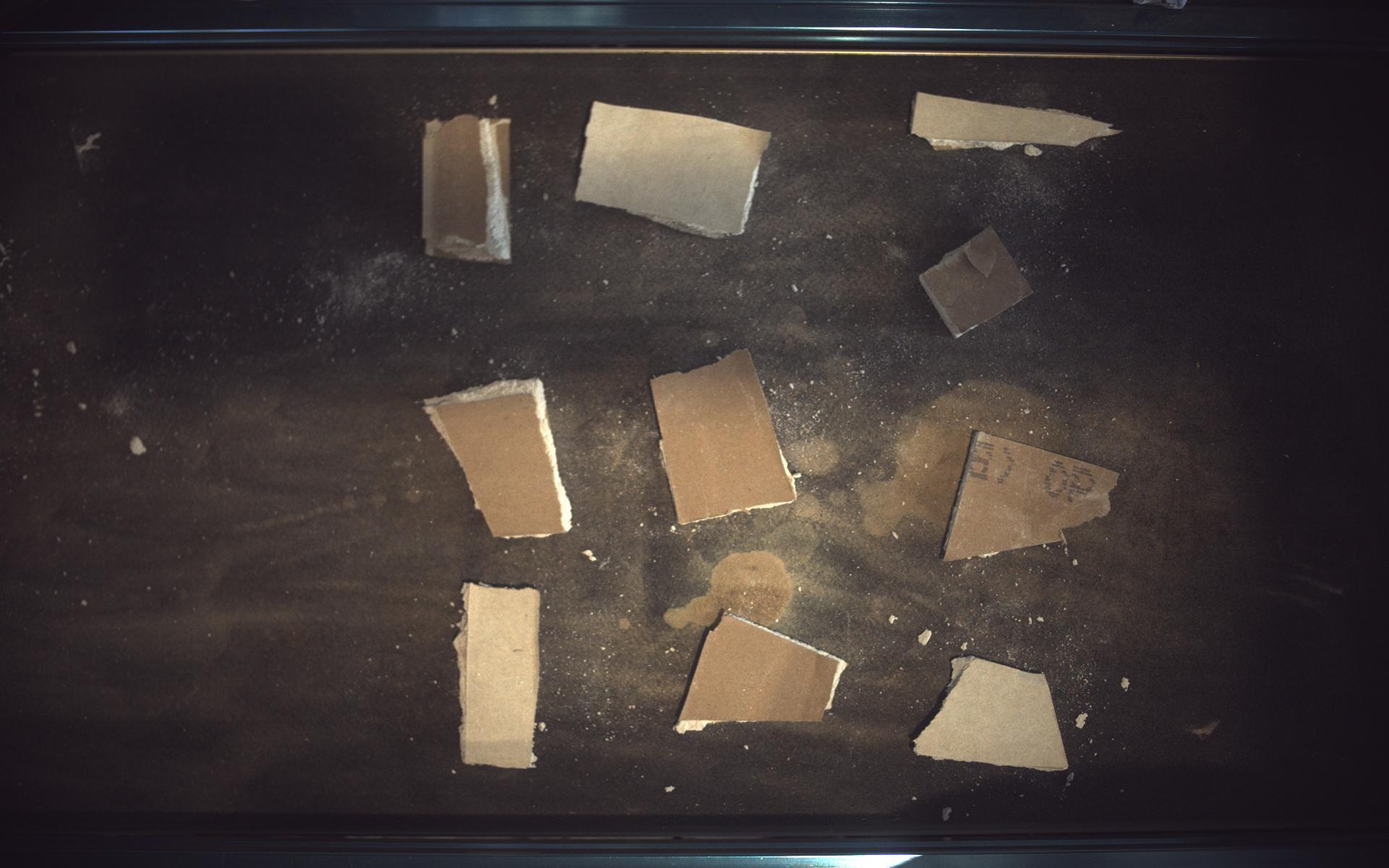gypsum_board: (576, 101, 772, 237), (651, 349, 798, 525), (424, 378, 572, 538), (946, 432, 1121, 561), (676, 616, 849, 735), (915, 655, 1070, 774), (454, 584, 540, 770), (913, 91, 1122, 156), (422, 114, 511, 263), (922, 226, 1035, 337)
